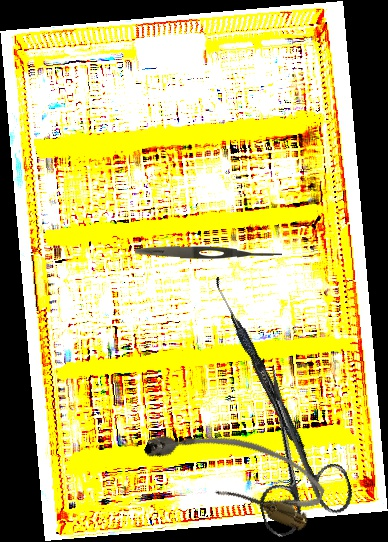Cannula: (138, 403, 332, 535)
Dressing Forceps: (134, 244, 283, 261)
Iris Scissors: (220, 352, 360, 541)
Spatula Surgical: (206, 276, 326, 485)
